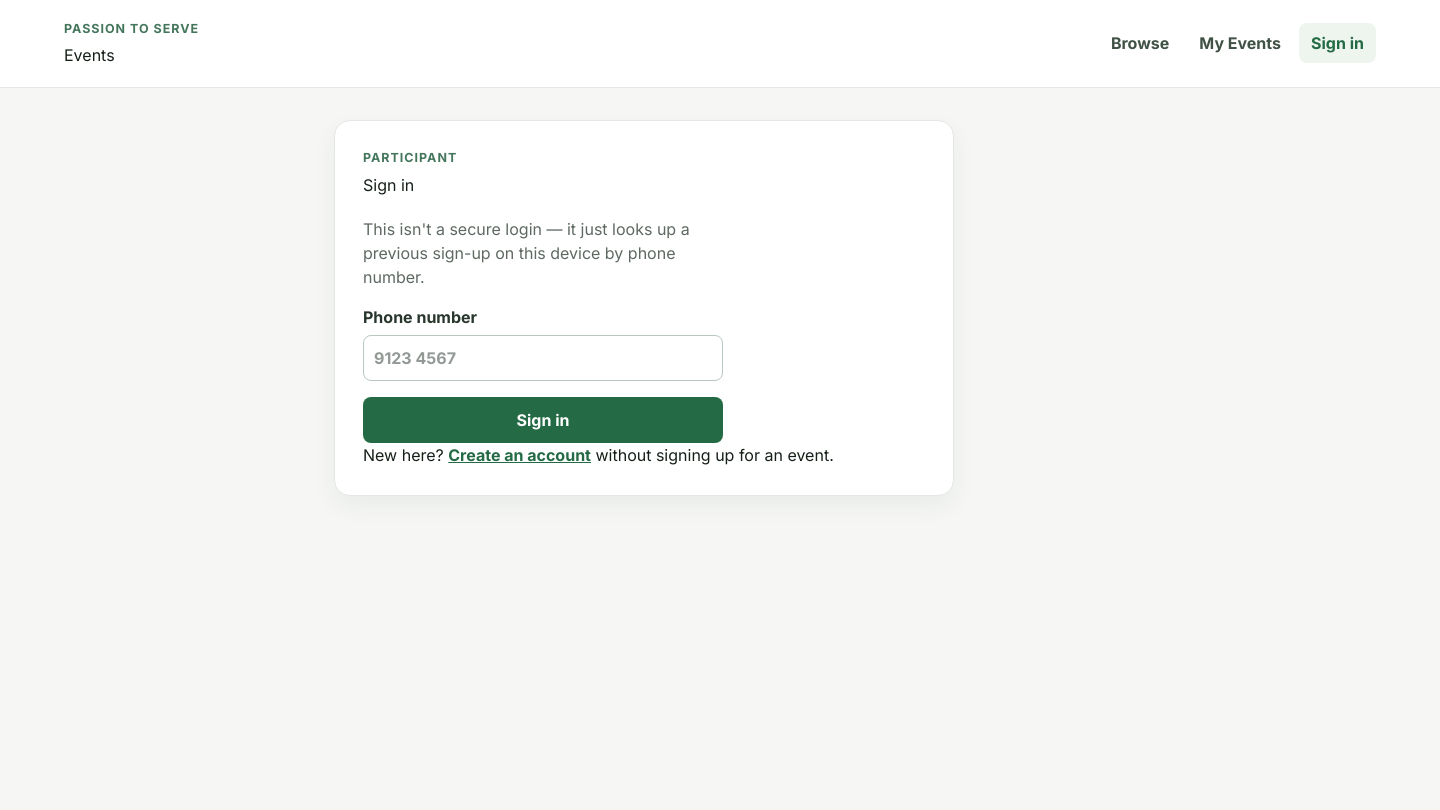
Sign in › shows an honest empty state when no participant matches, not a raw API error
Type "8765 4321" into the field labelled "Phone number" at [543, 358], box [363,335,723,381]
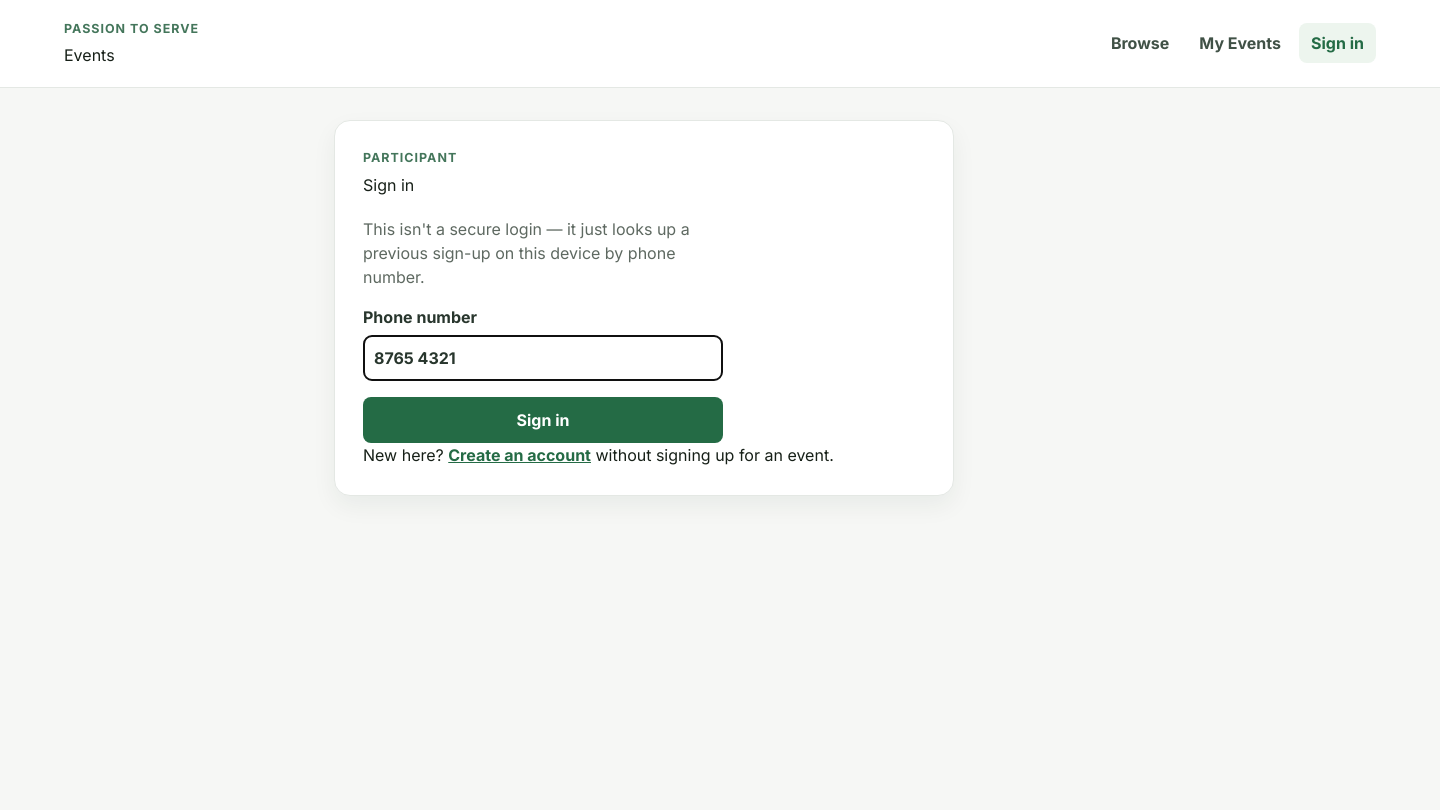
Click the button "Sign in" at [543, 420], box [363,397,723,443]
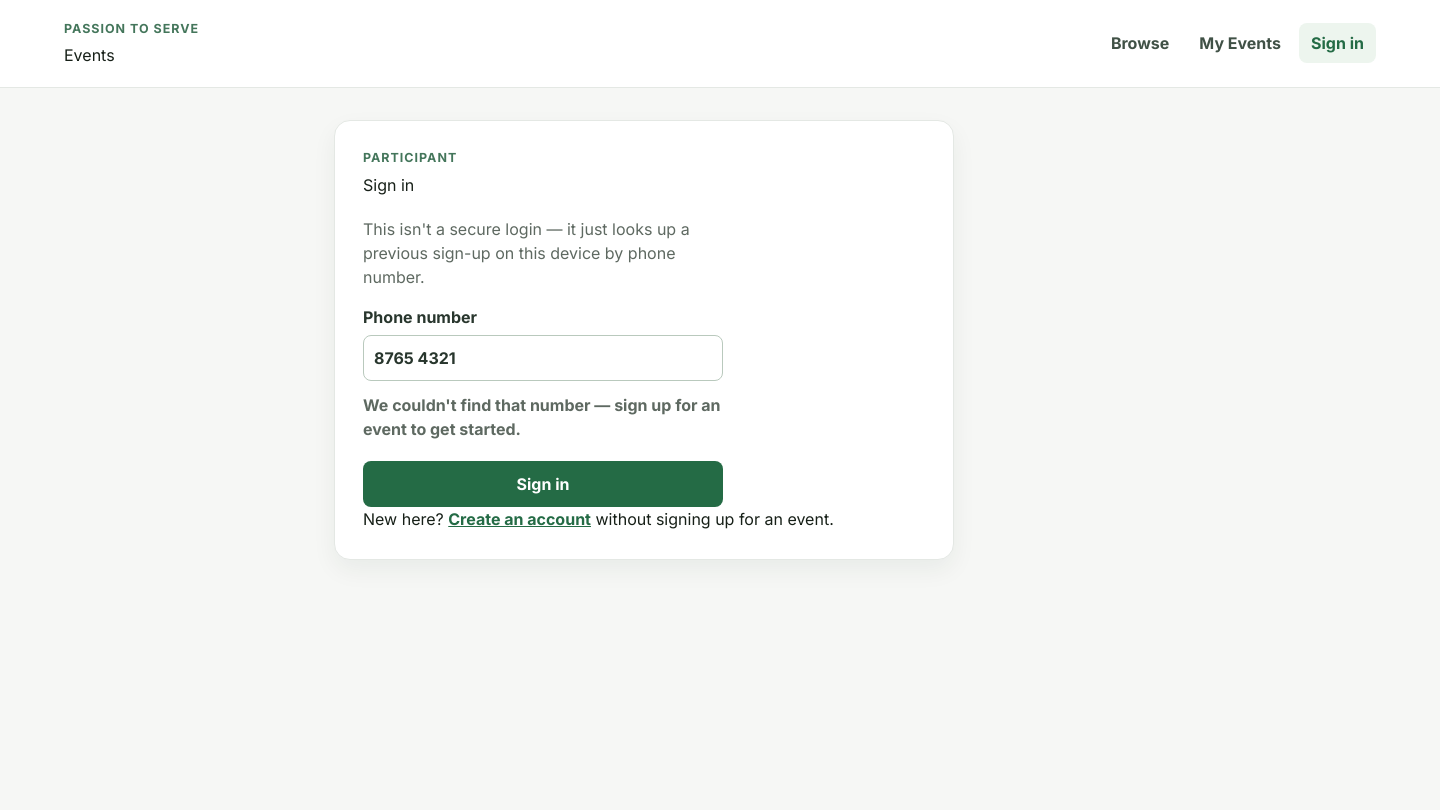
Expected: the text "We couldn't find that number — sign up for an event to get started." is shown, [363,393,723,441]
